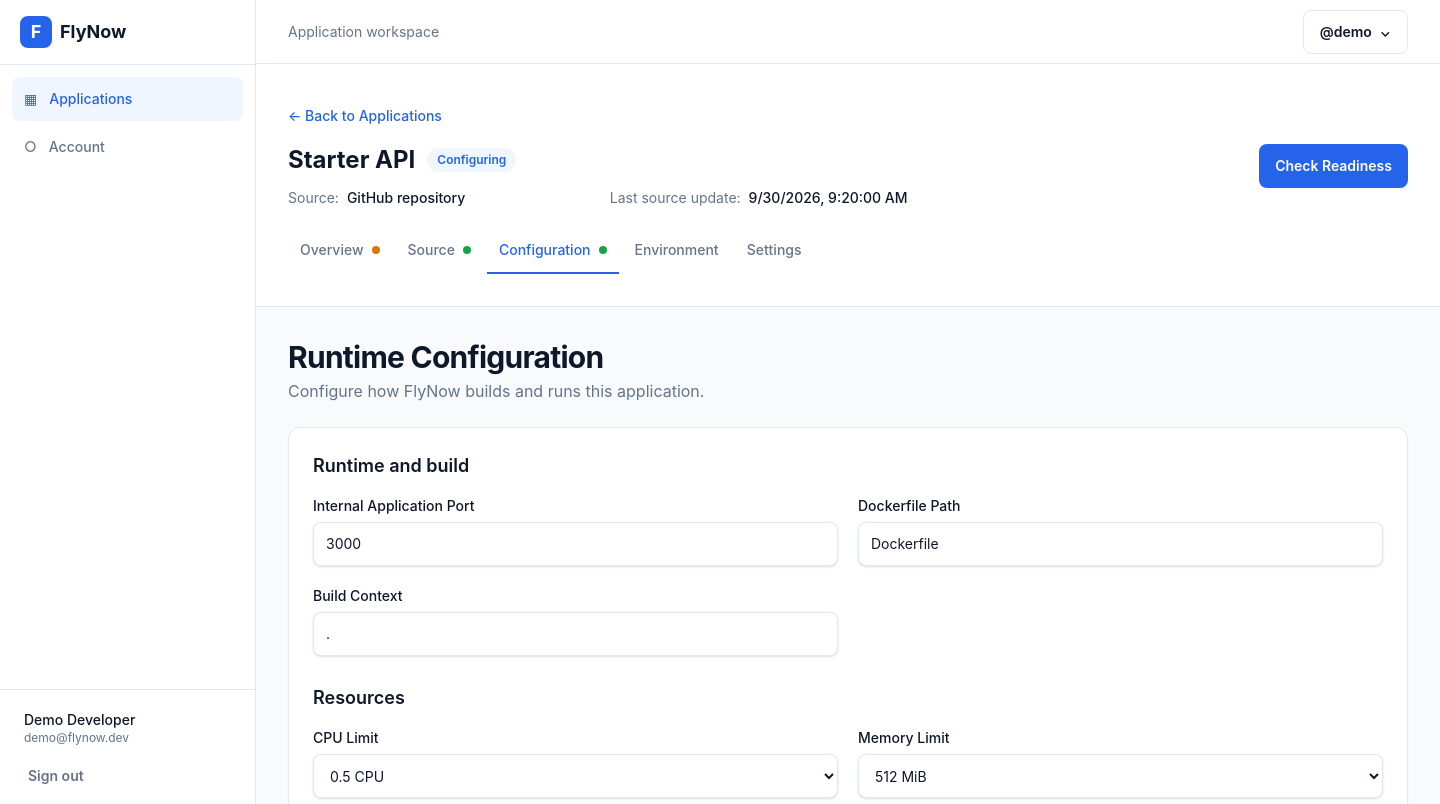
Test: runtime configuration › warns before leaving with unsaved changes
Check: the heading "Runtime Configuration" is shown, box [288, 339, 603, 375]
Replace the text in the field labelled "Internal Application Port" with "3001" at (576, 544), box [313, 522, 838, 566]
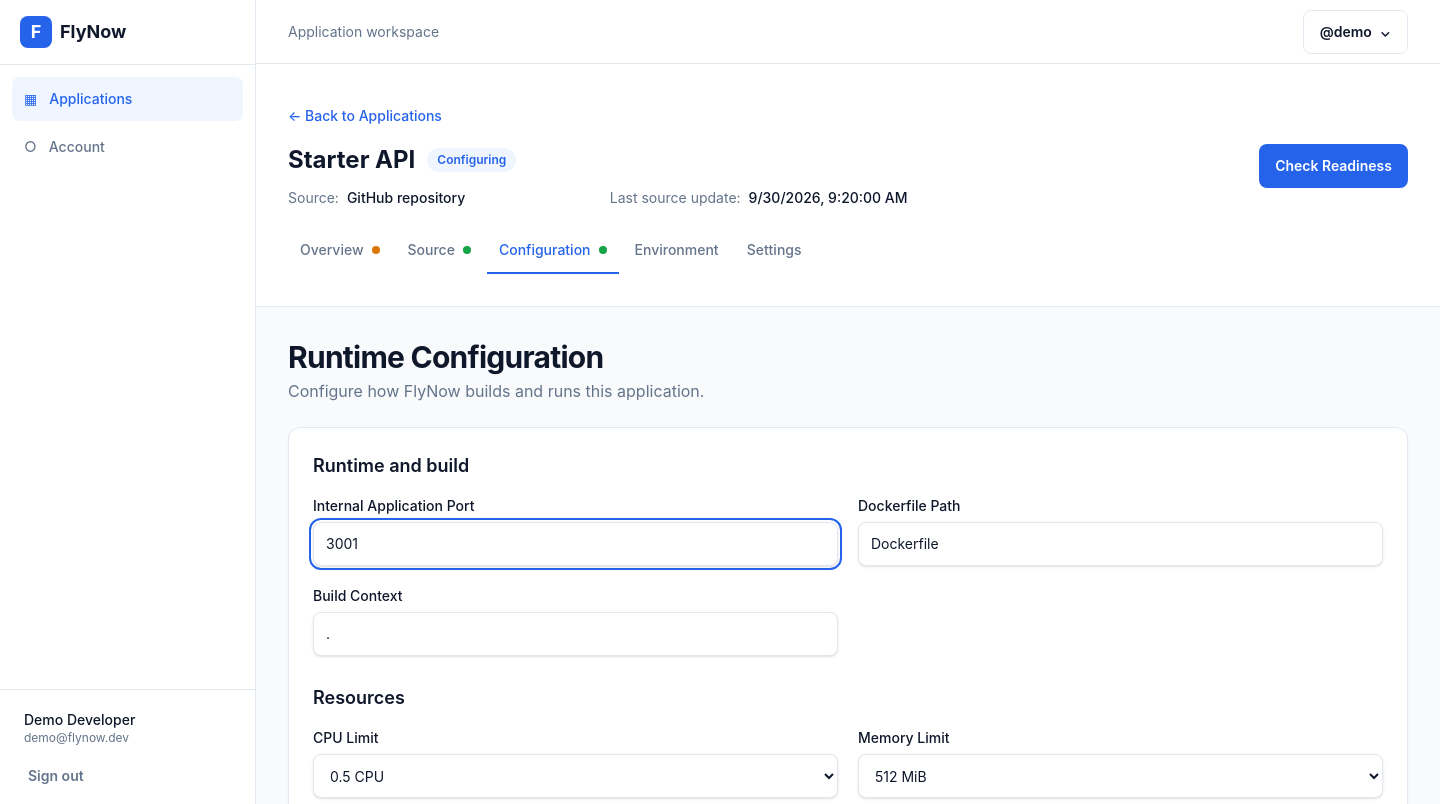
Click the link "Source" at (439, 250), box [408, 241, 471, 258]
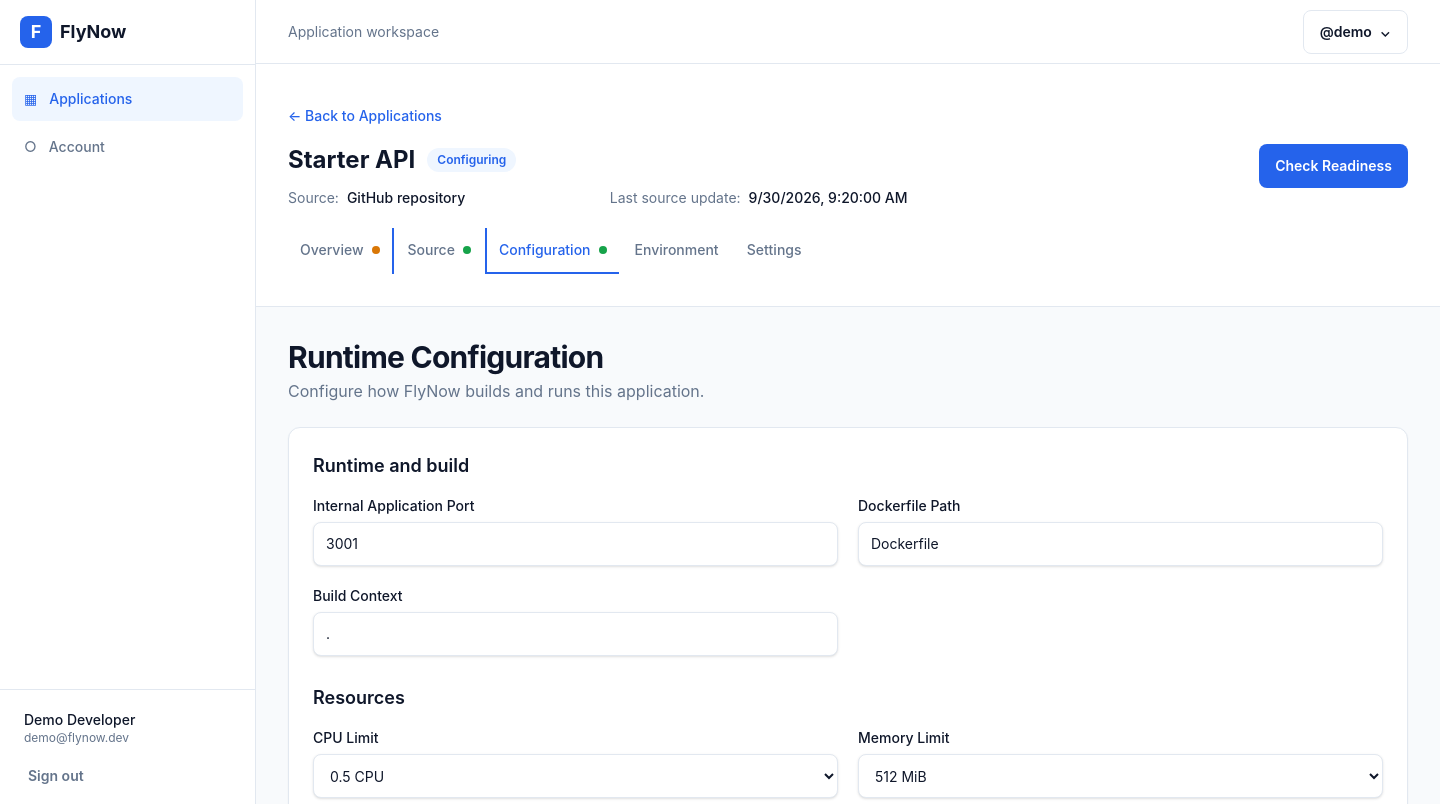
Check: the heading "Runtime Configuration" is shown, box [288, 339, 603, 375]
Click the link "Source" at (439, 250), box [408, 241, 471, 258]
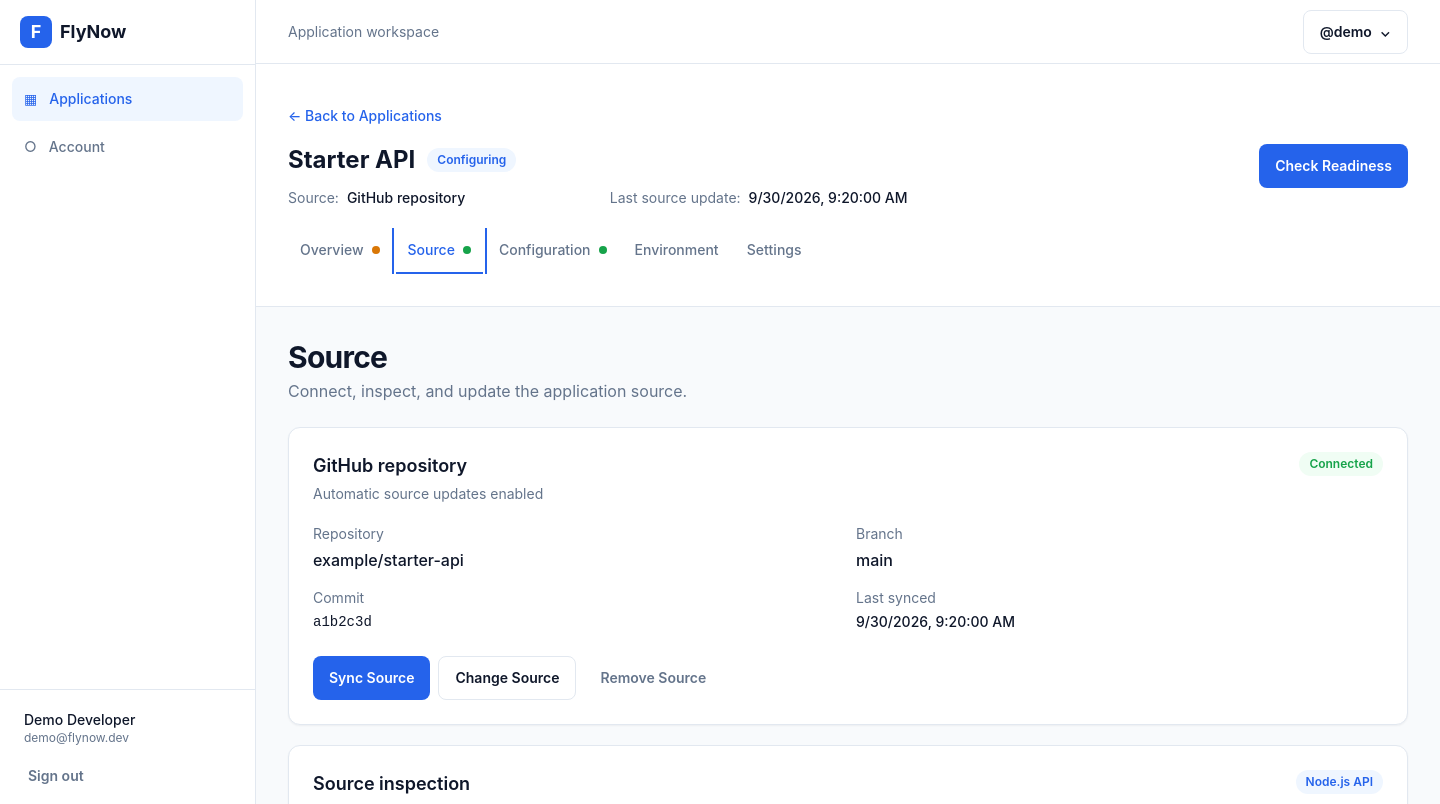
Check: the heading "Source" is shown, box [288, 339, 387, 375]
